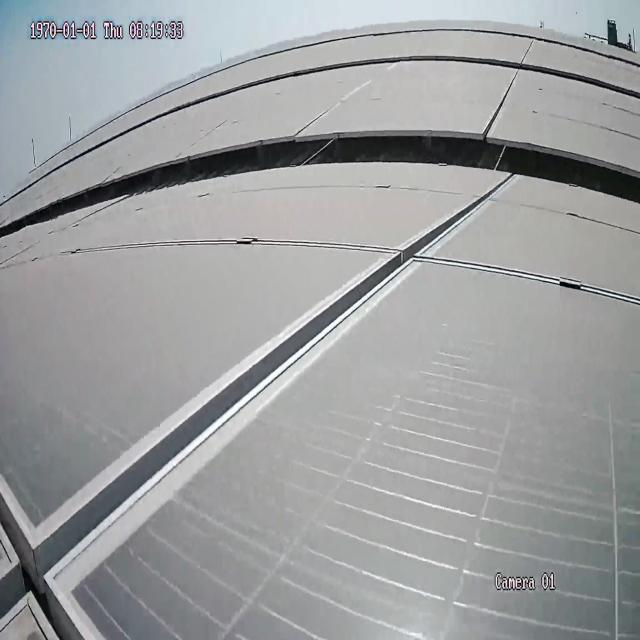interior panel: (0, 184, 506, 636)
outher panel: (4, 133, 640, 233)
